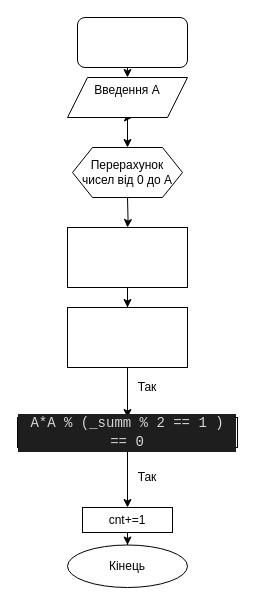
Image size: 255x605. Some labels were removed from this diagram. Here are the shapes that lost their labels. From the top down, the centre of each, then its label:
At (x=132, y=42): "Пчаток".
At (x=127, y=257): "Складання чисел в 1 по принципу i= 123=6".
At (x=127, y=337): "i%2".
